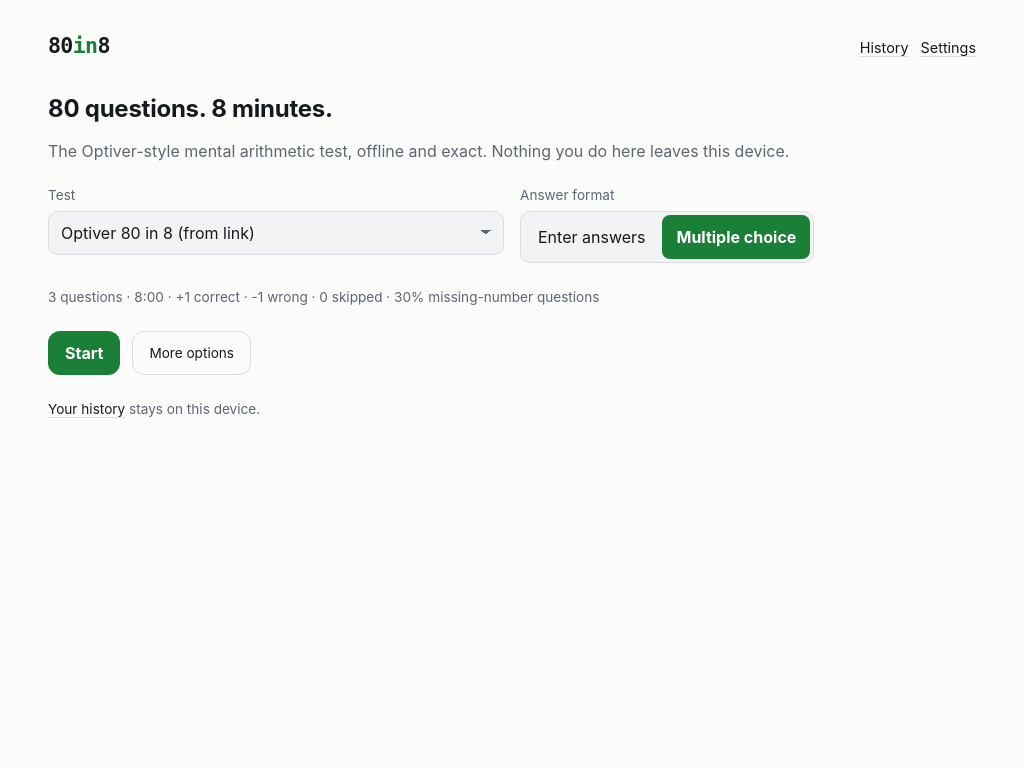
Test: a shared link › lets the mix be changed on the shared profile, and lets another test replace it
The width and height of the screenshot is (1024, 768).
Click the button with test id "toggle-advanced" at (192, 353), box [132,331,251,375]
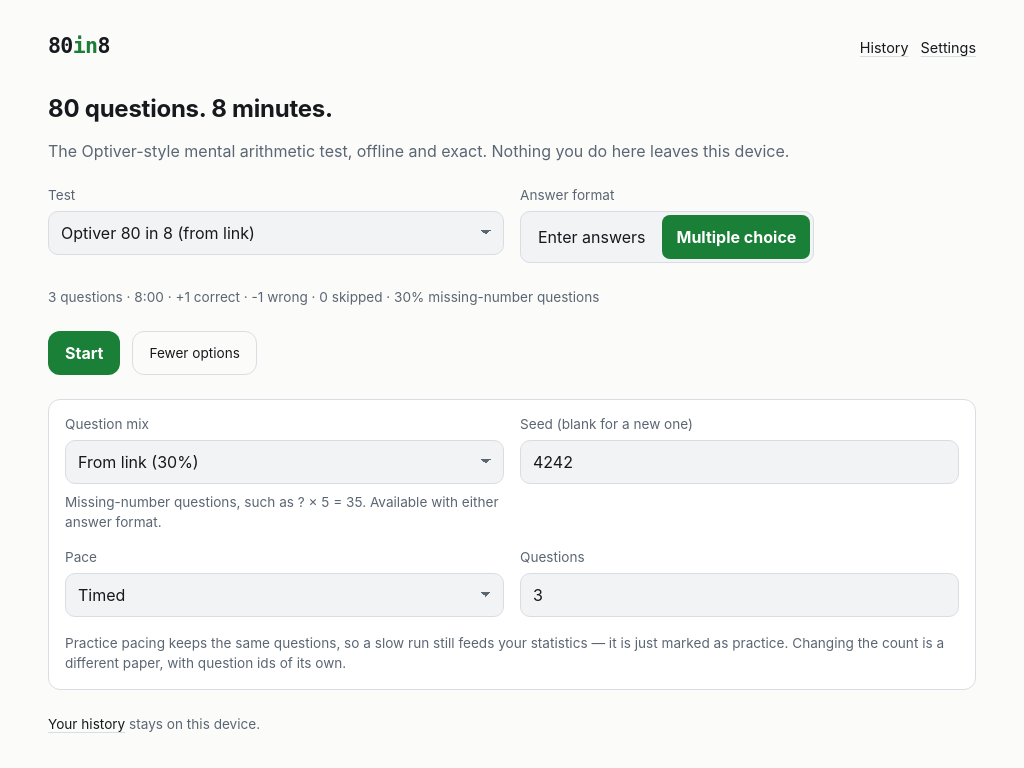
Select "Standard (20%)" in the dropdown with test id "question-mix" at (284, 462), box [65,440,504,484]
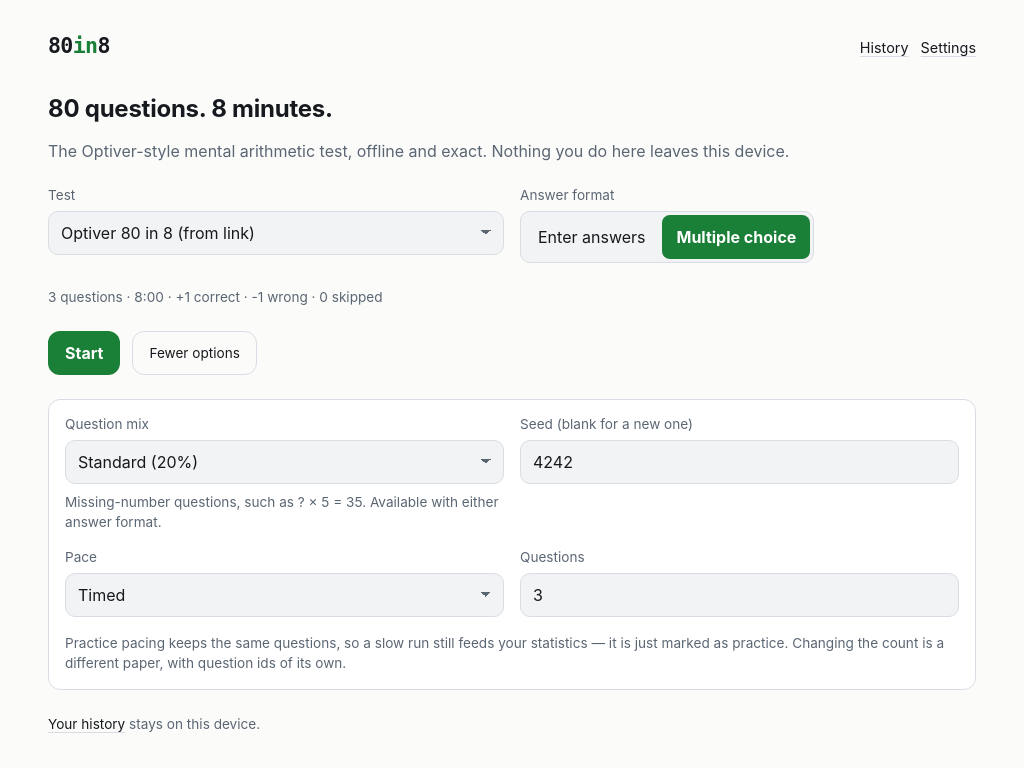
Check: the text with test id "disclosure" shows "3 questions", box [48,288,382,304]
Check: the element with test id "disclosure" no longer shows "missing-number"
Select "Optiver 80 in 8 (from link)" in the dropdown with test id "profile" at (276, 232), box [48,210,504,254]
Select "Hard" in the dropdown with test id "profile" at (276, 232), box [48,210,504,254]
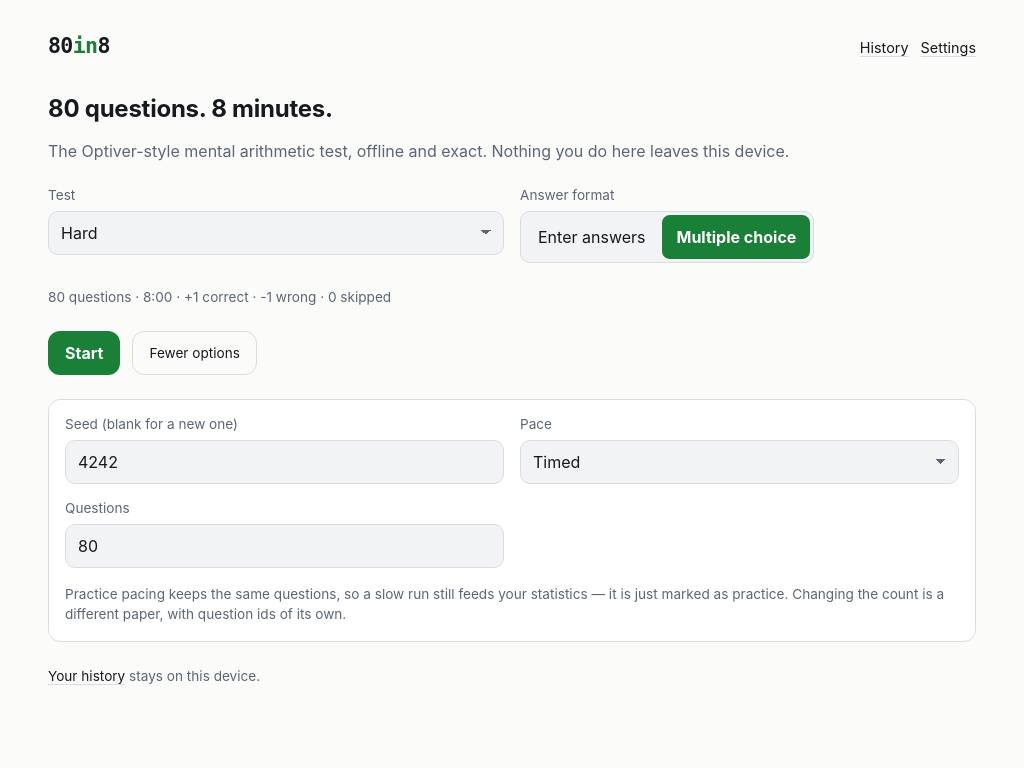
Check: the text "from link" is not shown
Check: the text with test id "disclosure" shows "80 questions", box [48,288,391,304]
